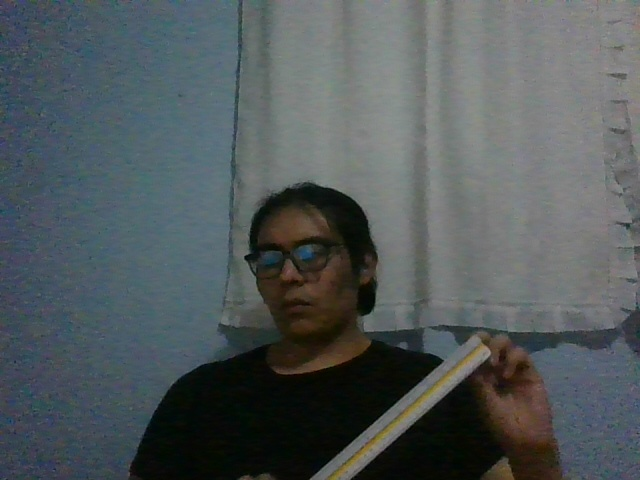regla: (311, 334, 492, 480)
